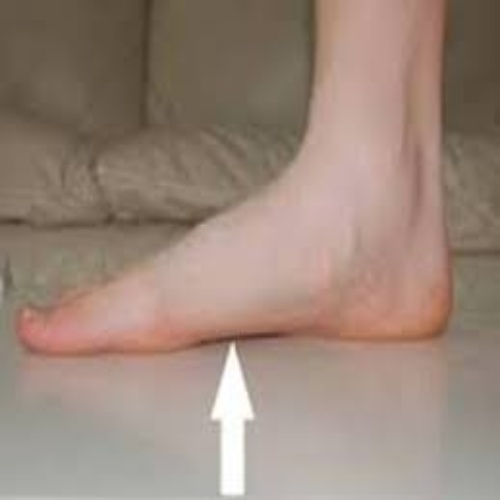Top_Foot: (16, 192, 470, 352)
